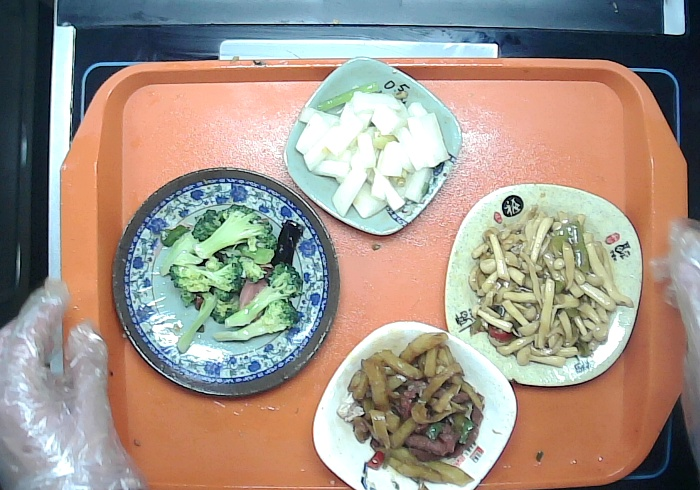NLDX-Bai_Se_Xiao_Fang_Die: (309, 317, 519, 489)
NLDX-Fu_Zi_Fang_Die: (437, 179, 648, 396)
NLDX-Qing_Hua_Xiao_Fang_Die: (277, 54, 465, 242)
NLDX-Qing_Hua_Yuan_Die: (105, 163, 346, 402)
